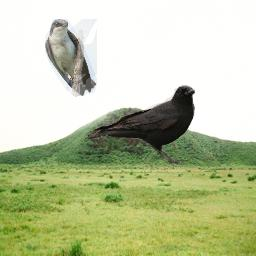Crow: (86, 85, 195, 164)
Swallow: (45, 19, 97, 97)
